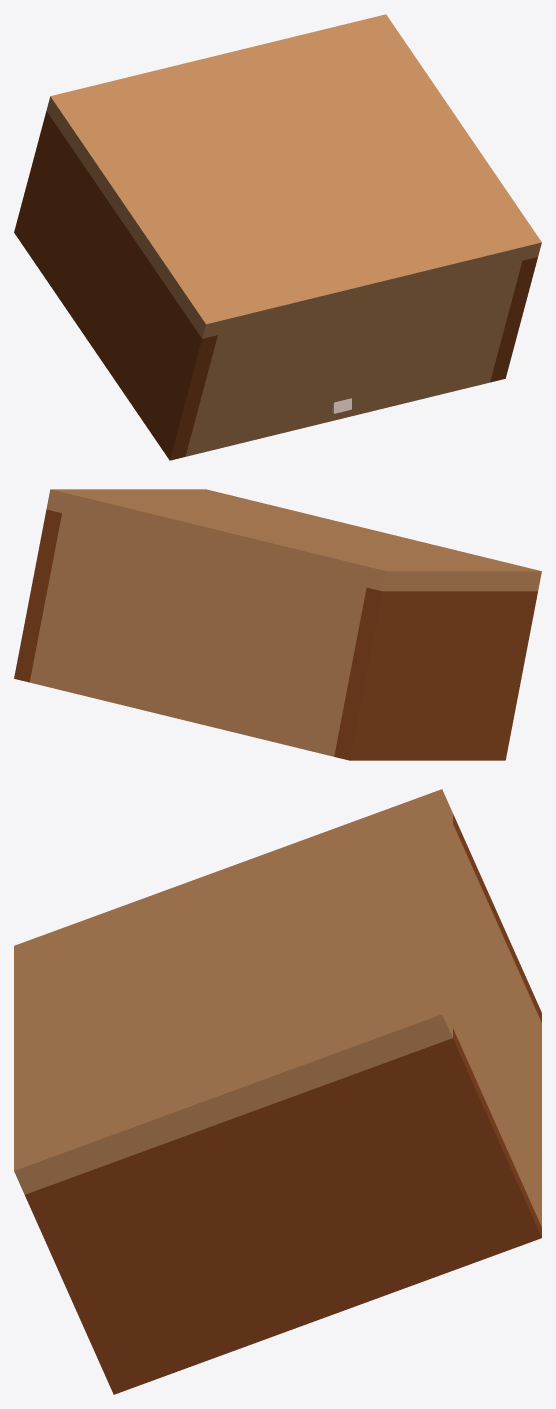
The model's file is rabbit_trap.fbx.
The picture shows the model from 3 angles, top to bottom: view 1: azimuth 30°, elevation 25°; view 2: azimuth 150°, elevation 25°; view 3: azimuth 270°, elevation 25°; orthographic projection. The views are drawn at different scales.
Parts seen in each view (by area): view 1: RabbitTrap; view 2: RabbitTrap; view 3: RabbitTrap.
Boxes of the visible parts, left/top/right/bottom form: RabbitTrap: left=14, top=14, right=541, bottom=460; RabbitTrap: left=14, top=489, right=541, bottom=760; RabbitTrap: left=14, top=789, right=541, bottom=1394.
Size of the model in its own units: 1.5 by 1.18 by 1.49.
